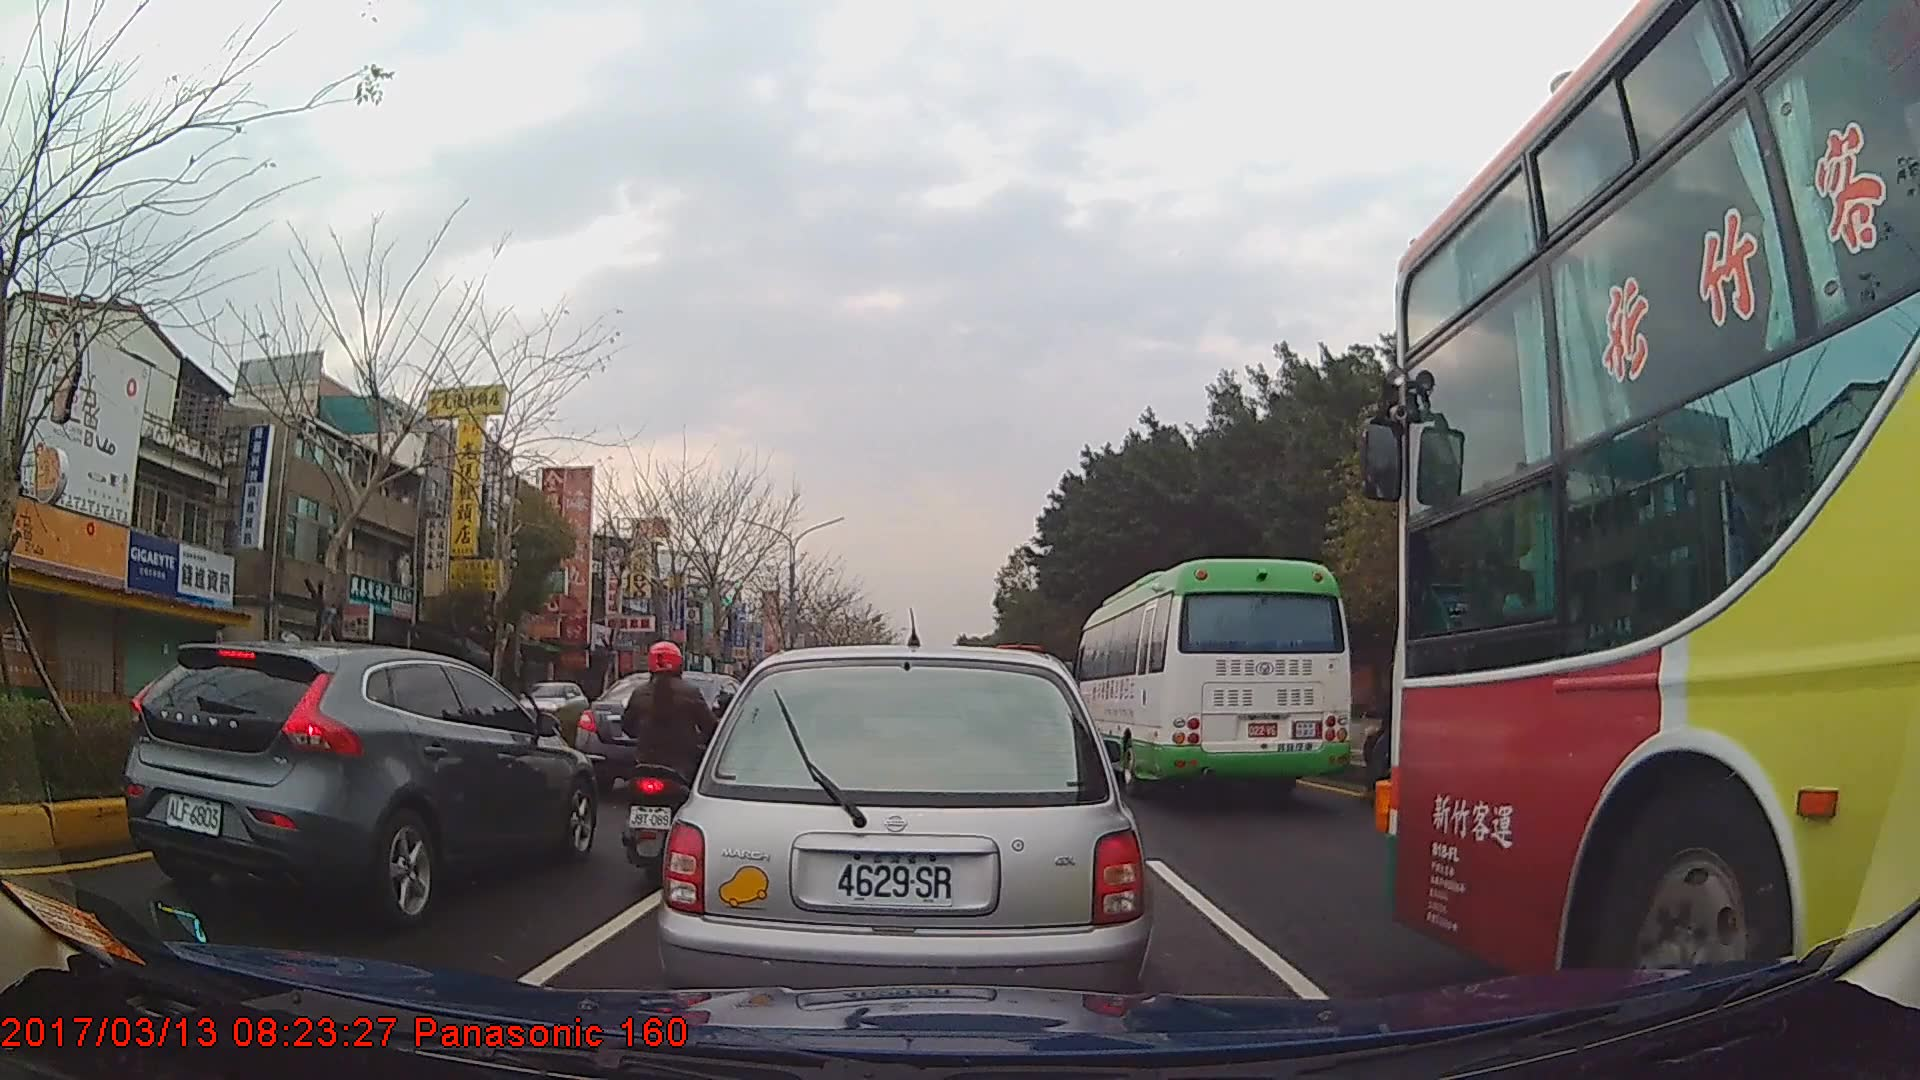rider: (618, 637, 731, 875)
vehicle: (1389, 0, 1920, 1019), (657, 640, 1151, 1027), (121, 639, 595, 930), (1070, 554, 1350, 800), (577, 668, 763, 790), (516, 680, 586, 728)
